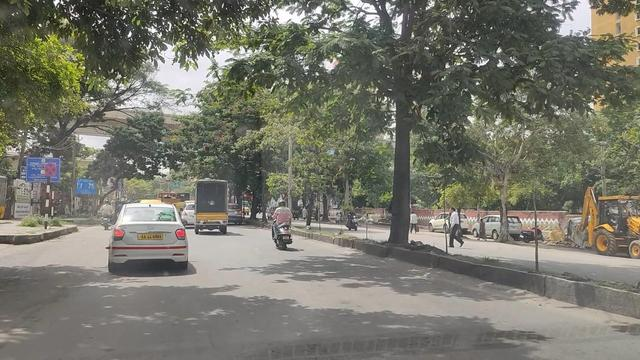HMV: (188, 173, 231, 240)
LMV: (113, 202, 192, 277), (267, 197, 295, 246)
